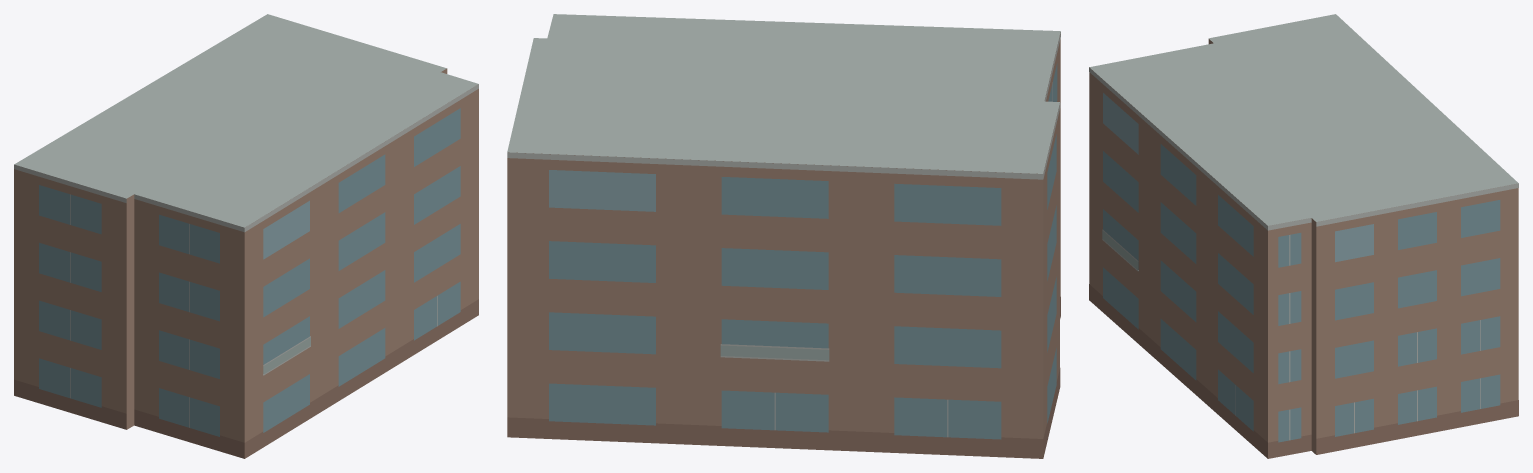
File: survey-upis-32816629.glb
The picture shows the model from 3 angles, left to right: view 1: azimuth 30°, elevation 25°; view 2: azimuth 150°, elevation 25°; view 3: azimuth 270°, elevation 25°; orthographic projection. The views are drawn at different scales.
Visible parts, largest first — view 1: survey-upis-32816629.tmp; view 2: survey-upis-32816629.tmp; view 3: survey-upis-32816629.tmp.
Boxes of the visible parts, bbox=[...] form: survey-upis-32816629.tmp: bbox=[14, 14, 478, 458]; survey-upis-32816629.tmp: bbox=[507, 14, 1060, 458]; survey-upis-32816629.tmp: bbox=[1089, 14, 1518, 458].
Size of the model in its own units: 23.81 by 12.2 by 20.4.
